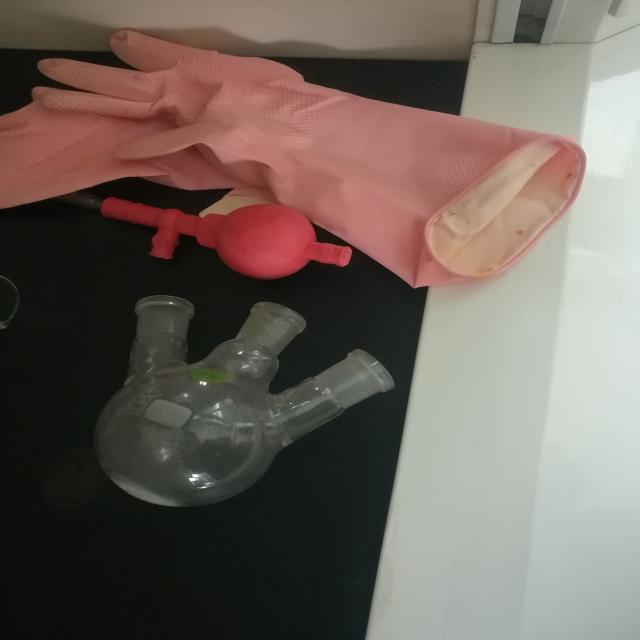Round_Bottom_Flask_Borosilicate_Glass_3_Neck: (85, 264, 408, 556)
